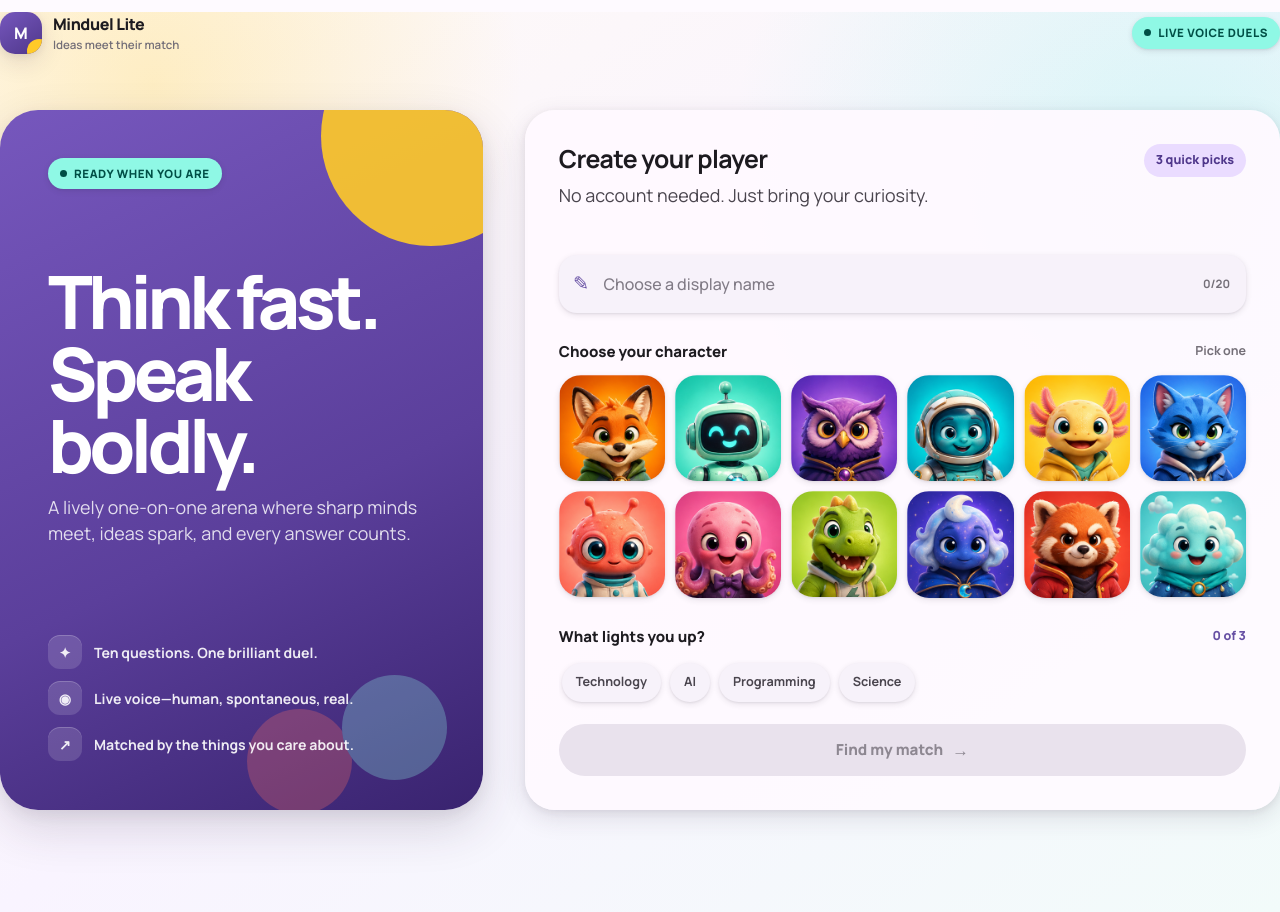
WelcomePage (items 77–85) › FT-02 Enter Pool disabled until valid name, avatar, 3 interests
Check: the button "Technology" is shown, box [562,663,661,702]
Check: the button with aria-label "enter pool" is disabled, box [559,724,1246,776]
Type "Neo" into the field labelled "Choose a display name" at (925, 284), box [604,254,1246,312]
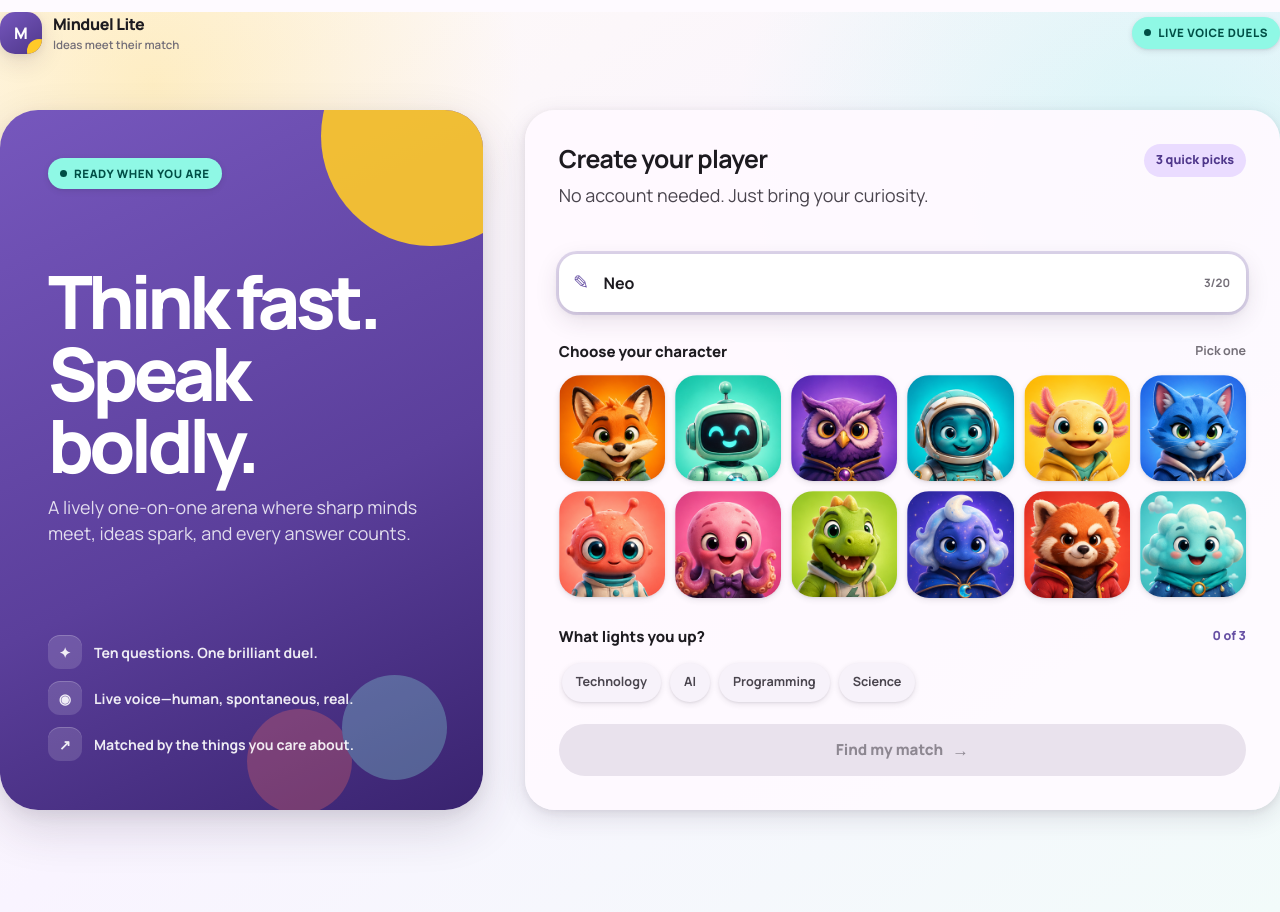
Check: the button with aria-label "enter pool" is disabled, box [559,724,1246,776]
Click the button named "Avatar 4" at (960, 428), box [907,375,1014,481]
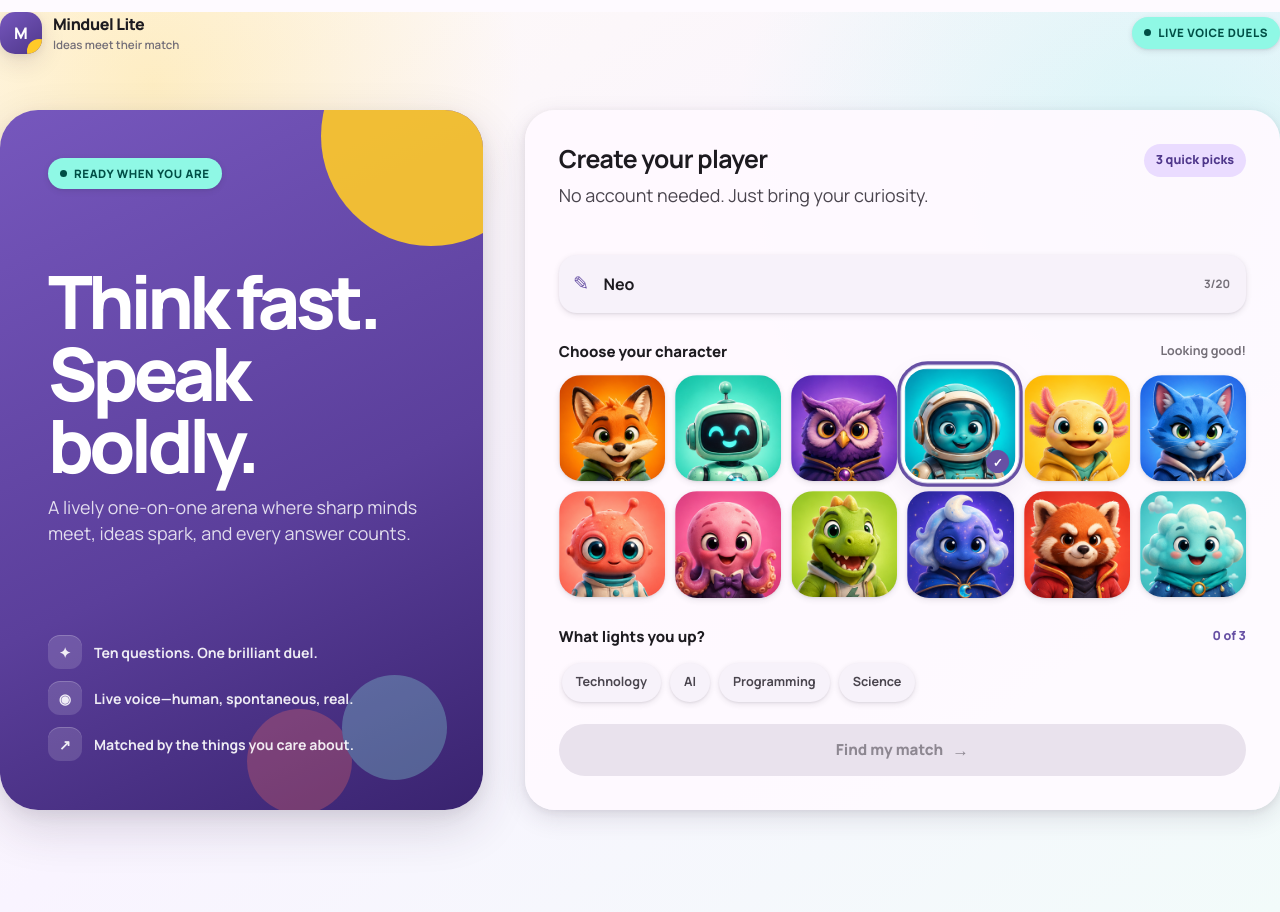
Check: the button with aria-label "enter pool" is disabled, box [559,724,1246,776]
Click the button "Technology" at (611, 683), box [562,663,661,702]
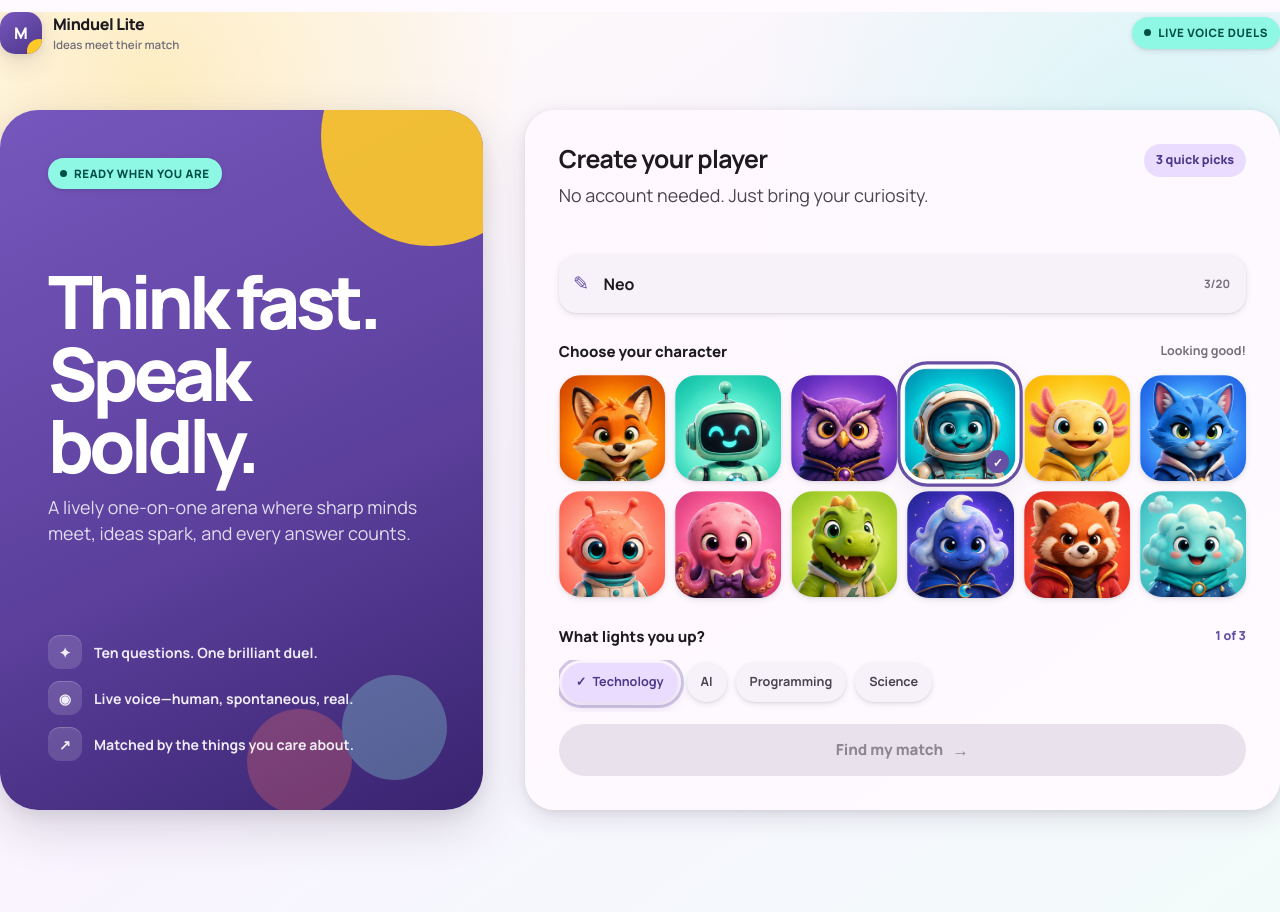
Click the button "AI" at (707, 683), box [687,663,727,702]
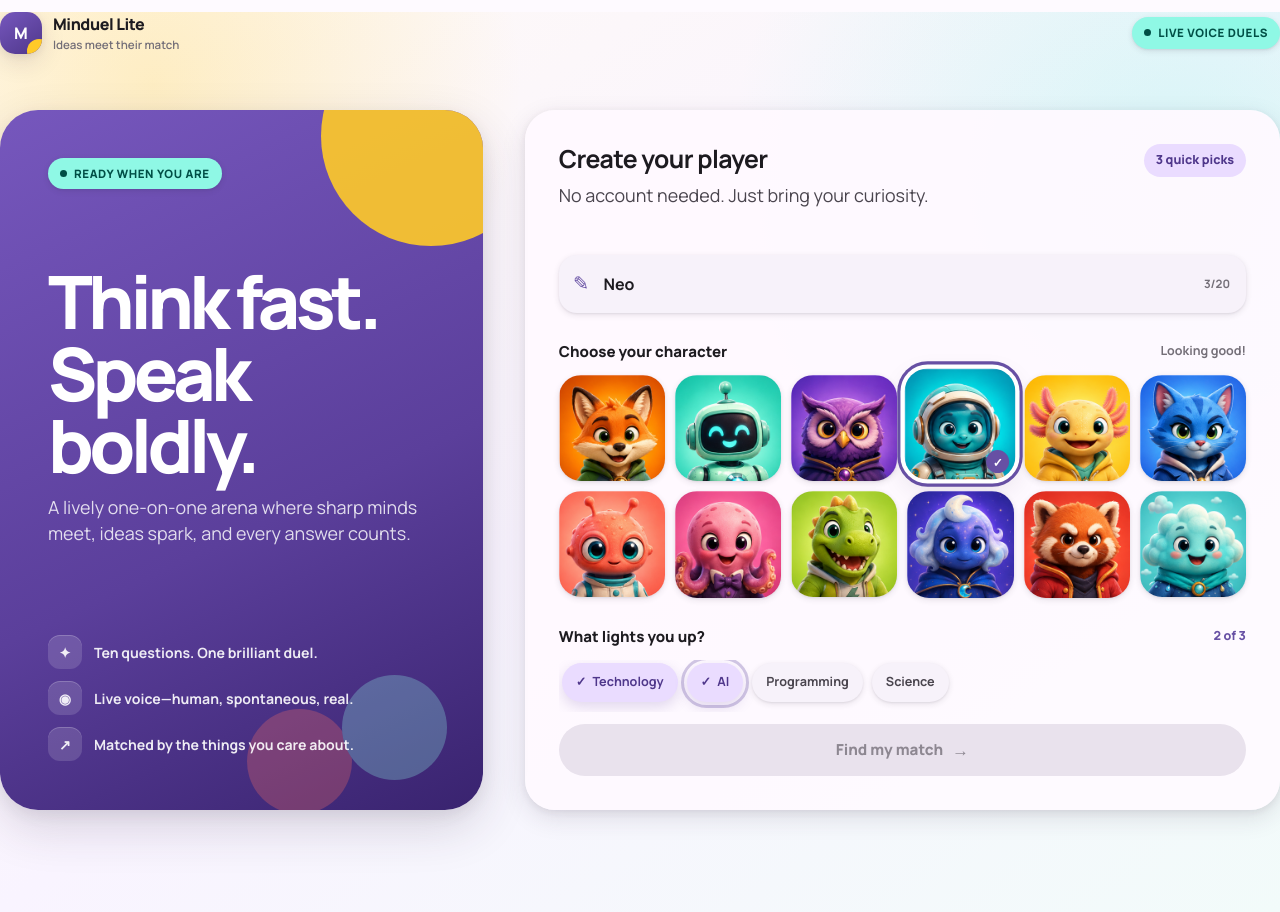
Click the button "Programming" at (808, 683), box [752,663,863,702]
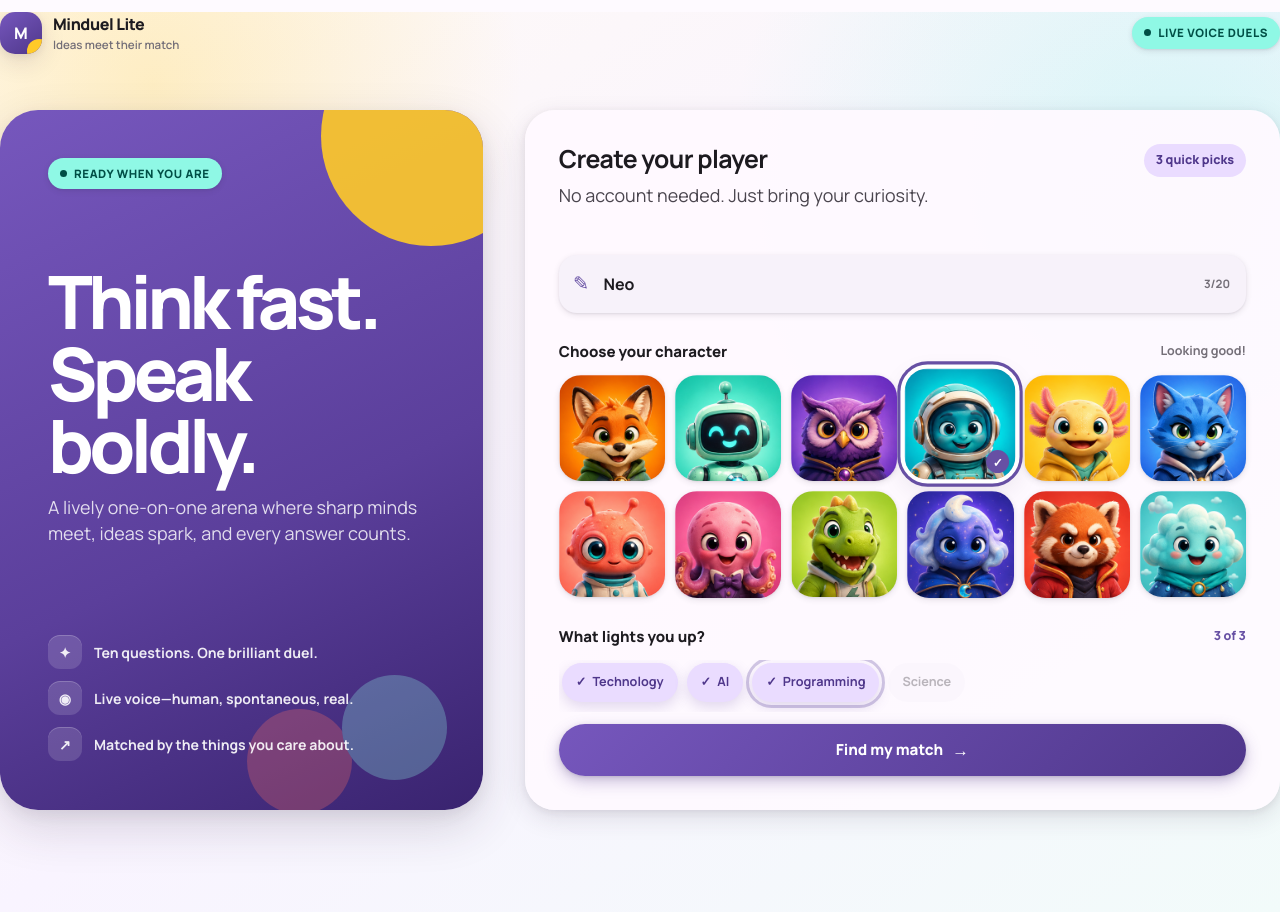
Check: the button with aria-label "enter pool" is enabled, box [559,724,1246,776]
